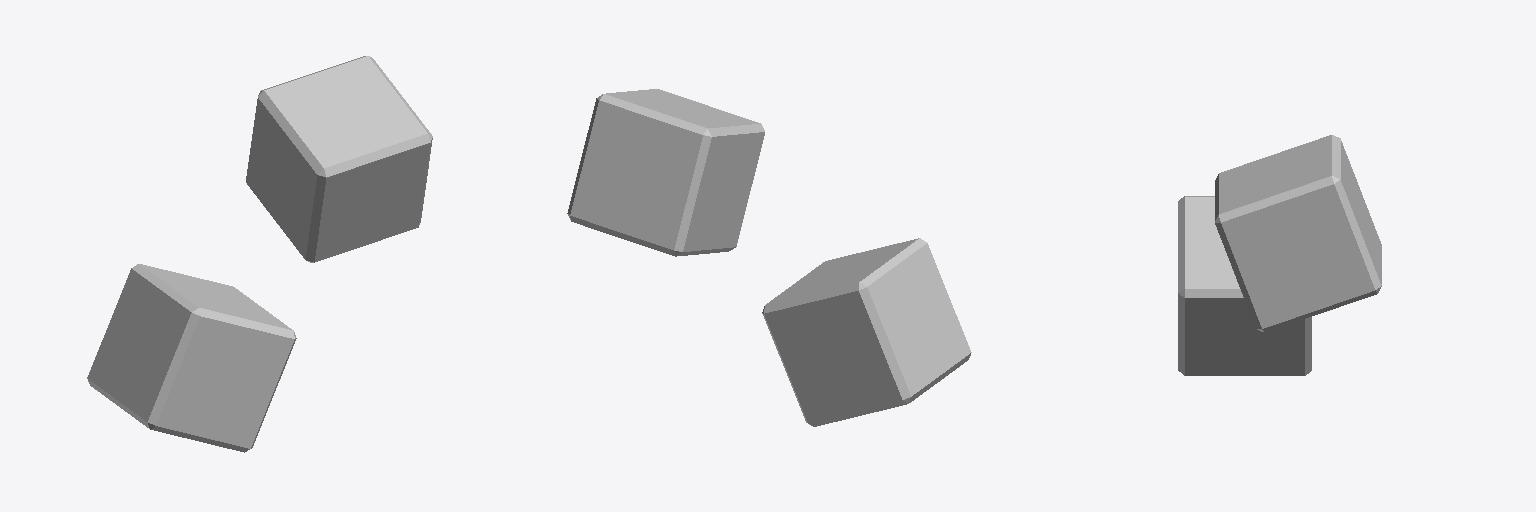
File: Less_ice.obj
3 views of the same model, side by side, from view 1: azimuth 30°, elevation 25°; view 2: azimuth 150°, elevation 25°; view 3: azimuth 270°, elevation 25° (orthographic).
Size of the model in its own units: 5.73 by 5.18 by 3.24.